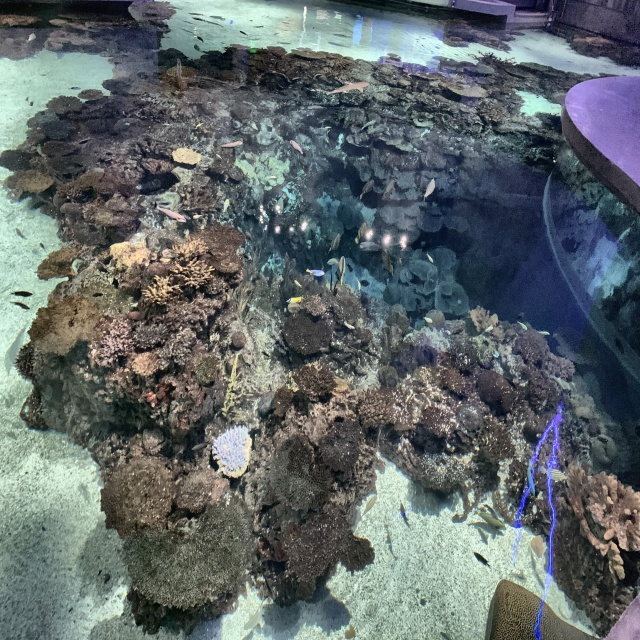fish: (154, 202, 188, 225), (475, 512, 507, 533), (360, 492, 379, 519), (357, 177, 378, 201), (542, 466, 569, 483), (551, 372, 573, 392), (527, 459, 539, 494), (473, 549, 493, 570), (381, 177, 397, 203), (422, 174, 437, 201), (398, 501, 410, 528), (289, 137, 305, 156), (337, 255, 347, 285), (382, 250, 394, 274), (219, 139, 245, 150), (10, 287, 33, 299), (328, 231, 341, 252), (386, 533, 396, 558), (306, 266, 325, 279), (10, 301, 32, 312), (358, 220, 369, 240), (530, 548, 538, 575), (484, 504, 498, 519), (513, 571, 530, 583), (223, 197, 233, 217), (286, 294, 304, 305), (515, 319, 529, 333), (535, 573, 546, 589), (536, 327, 552, 338), (326, 256, 340, 268), (15, 228, 27, 241), (343, 319, 356, 331), (484, 323, 496, 335), (422, 314, 434, 326), (39, 241, 49, 254), (293, 278, 303, 288), (196, 121, 205, 131), (443, 328, 453, 337), (427, 253, 435, 264), (193, 213, 204, 221), (267, 174, 278, 181), (252, 122, 260, 131), (357, 279, 362, 291), (215, 152, 222, 159)
shark: (326, 80, 368, 97)
